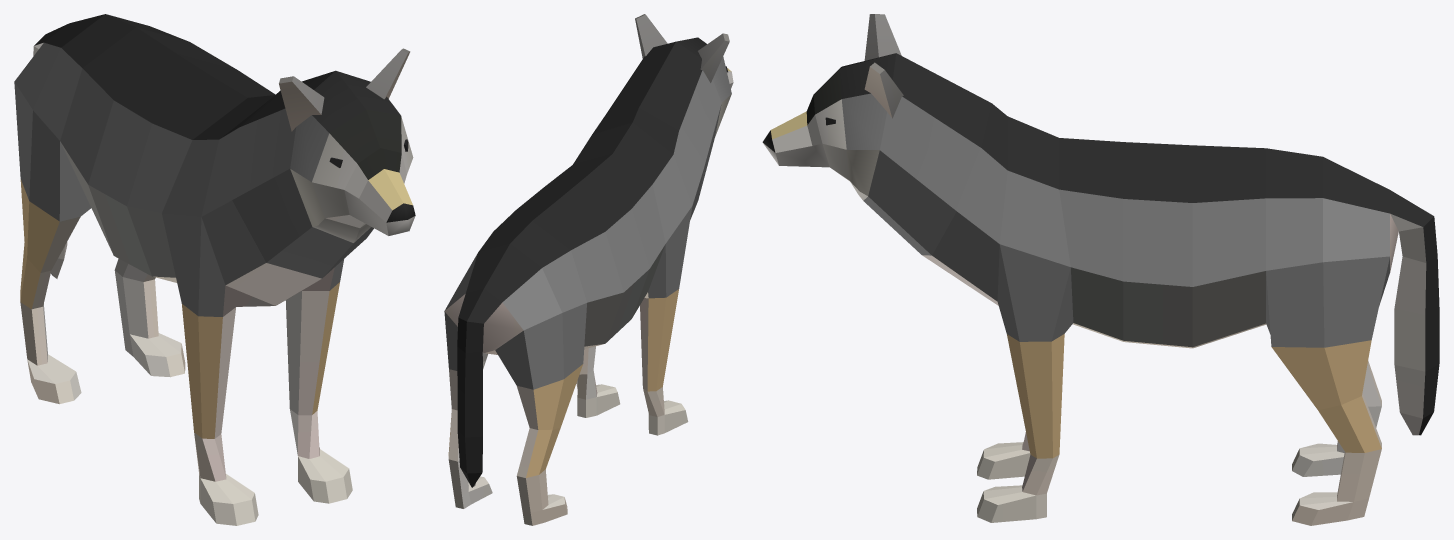
Rendered from animals-wolf-218.glb.
3 renders of one model, left to right at view 1: azimuth 30°, elevation 25°; view 2: azimuth 150°, elevation 25°; view 3: azimuth 270°, elevation 25°, orthographic. The views are drawn at different scales.
Parts seen in each view (by area): view 1: Geo_Wolf; view 2: Geo_Wolf; view 3: Geo_Wolf.
Boxes of the visible parts, left/top/right/bottom form: Geo_Wolf: left=14, top=14, right=415, bottom=525; Geo_Wolf: left=444, top=14, right=733, bottom=525; Geo_Wolf: left=762, top=14, right=1439, bottom=525.
Bounding box in the file's own units: 50.03 × 134 × 180.
1 material, 1 textured.
